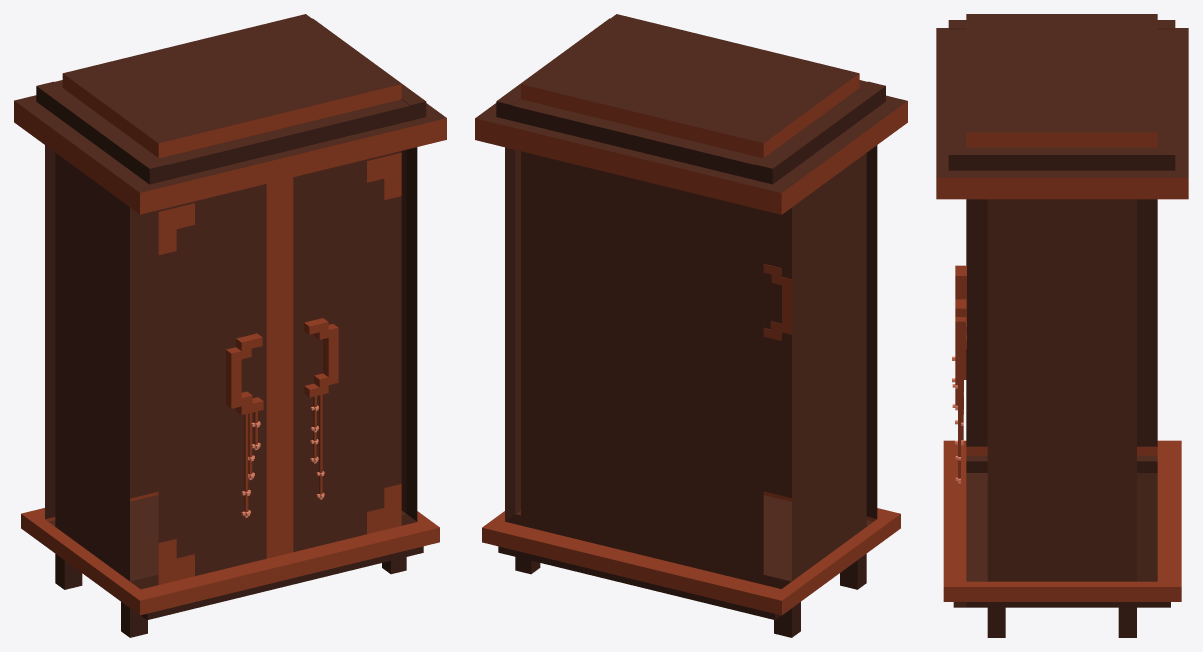
The model's file is Wardrobe.fbx.
3 renders of one model, left to right at view 1: azimuth 30°, elevation 25°; view 2: azimuth 150°, elevation 25°; view 3: azimuth 270°, elevation 25°, orthographic.
Visible parts, largest first — view 1: Cube; view 2: Cube; view 3: Cube.
Boxes of the visible parts, left/top/right/bottom form: Cube: left=14, top=14, right=446, bottom=637; Cube: left=475, top=14, right=907, bottom=637; Cube: left=936, top=14, right=1188, bottom=637.
Size of the model in its own units: 641 by 995 by 457.
